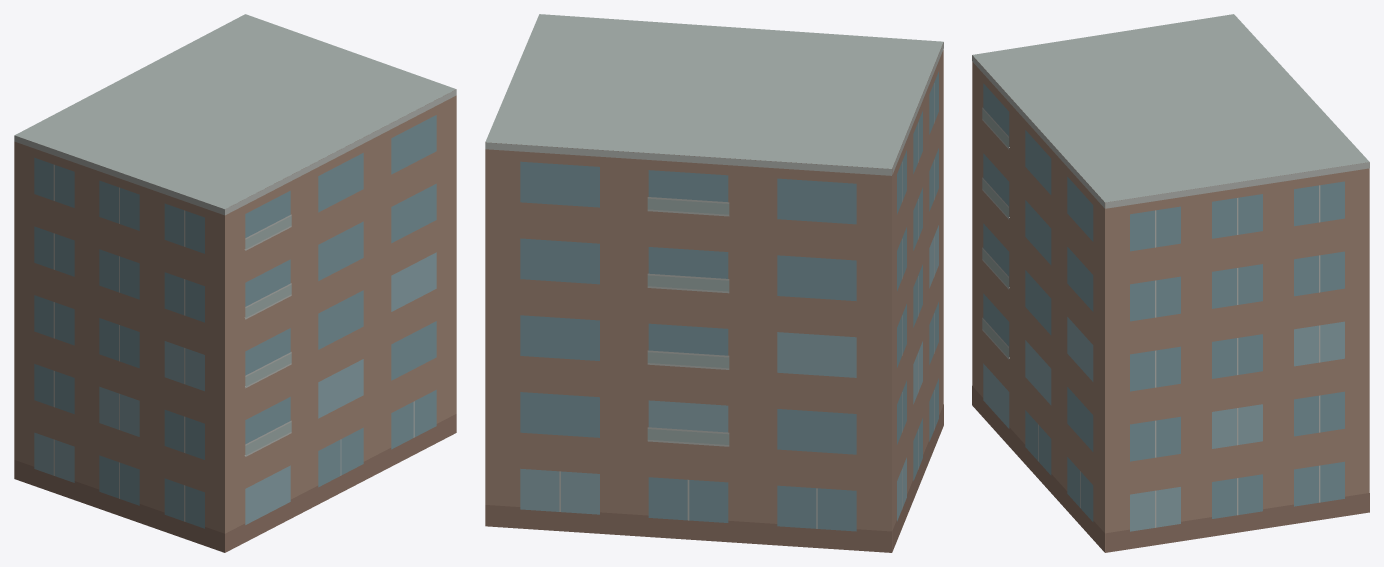
The model's file is survey-upis-32856922.glb.
3 renders of one model, left to right at view 1: azimuth 30°, elevation 25°; view 2: azimuth 150°, elevation 25°; view 3: azimuth 270°, elevation 25°, orthographic. The views are drawn at different scales.
Parts seen in each view (by area): view 1: survey-upis-32856922.tmp; view 2: survey-upis-32856922.tmp; view 3: survey-upis-32856922.tmp.
Part boxes in pixels (bbox=[...]): survey-upis-32856922.tmp: bbox=[14, 14, 456, 552]; survey-upis-32856922.tmp: bbox=[485, 14, 943, 552]; survey-upis-32856922.tmp: bbox=[972, 14, 1369, 552].
Bounding box in the file's own units: 15.71 × 13.6 × 14.
